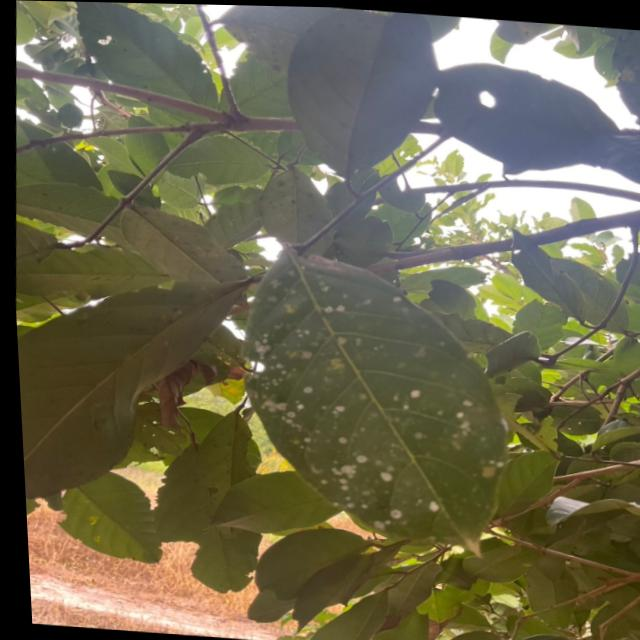Algal Leaf Spot: (216, 264, 511, 519)
